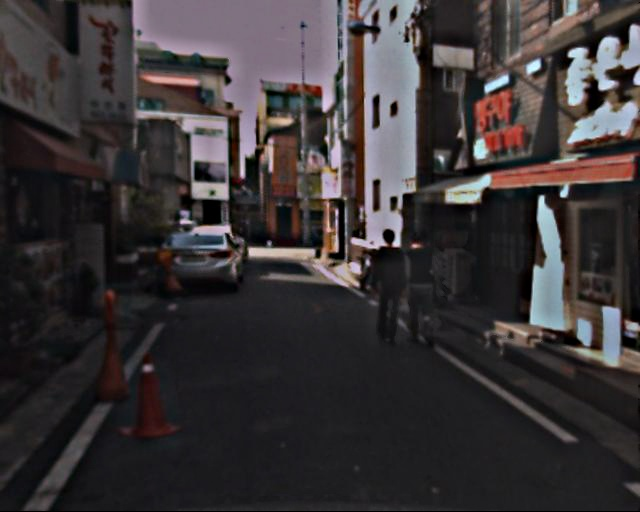person: (368, 227, 416, 344), (403, 231, 451, 347)
